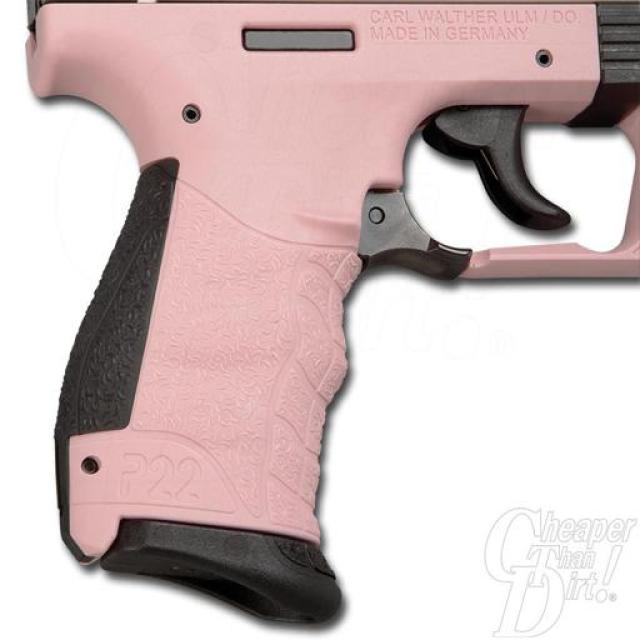pistol: (20, 3, 639, 618)
